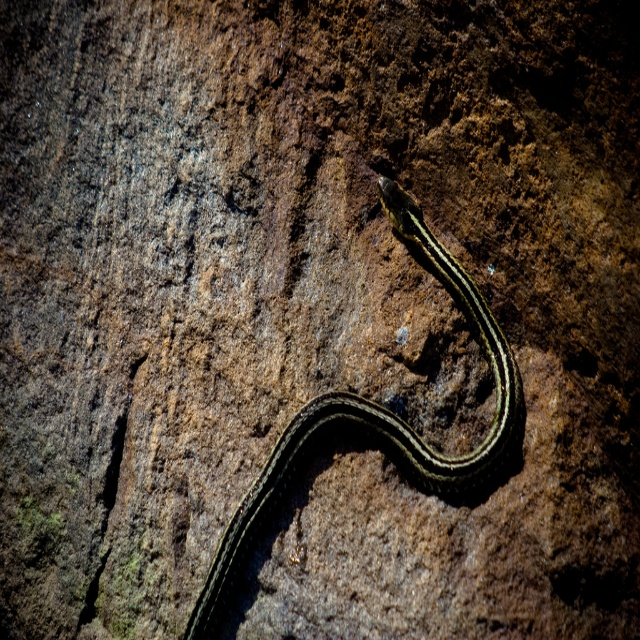Snake: (176, 171, 520, 639)
